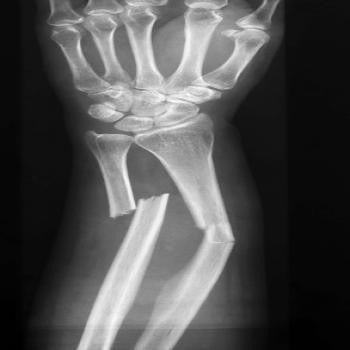Fracture: (106, 183, 175, 221), (194, 215, 247, 250)
